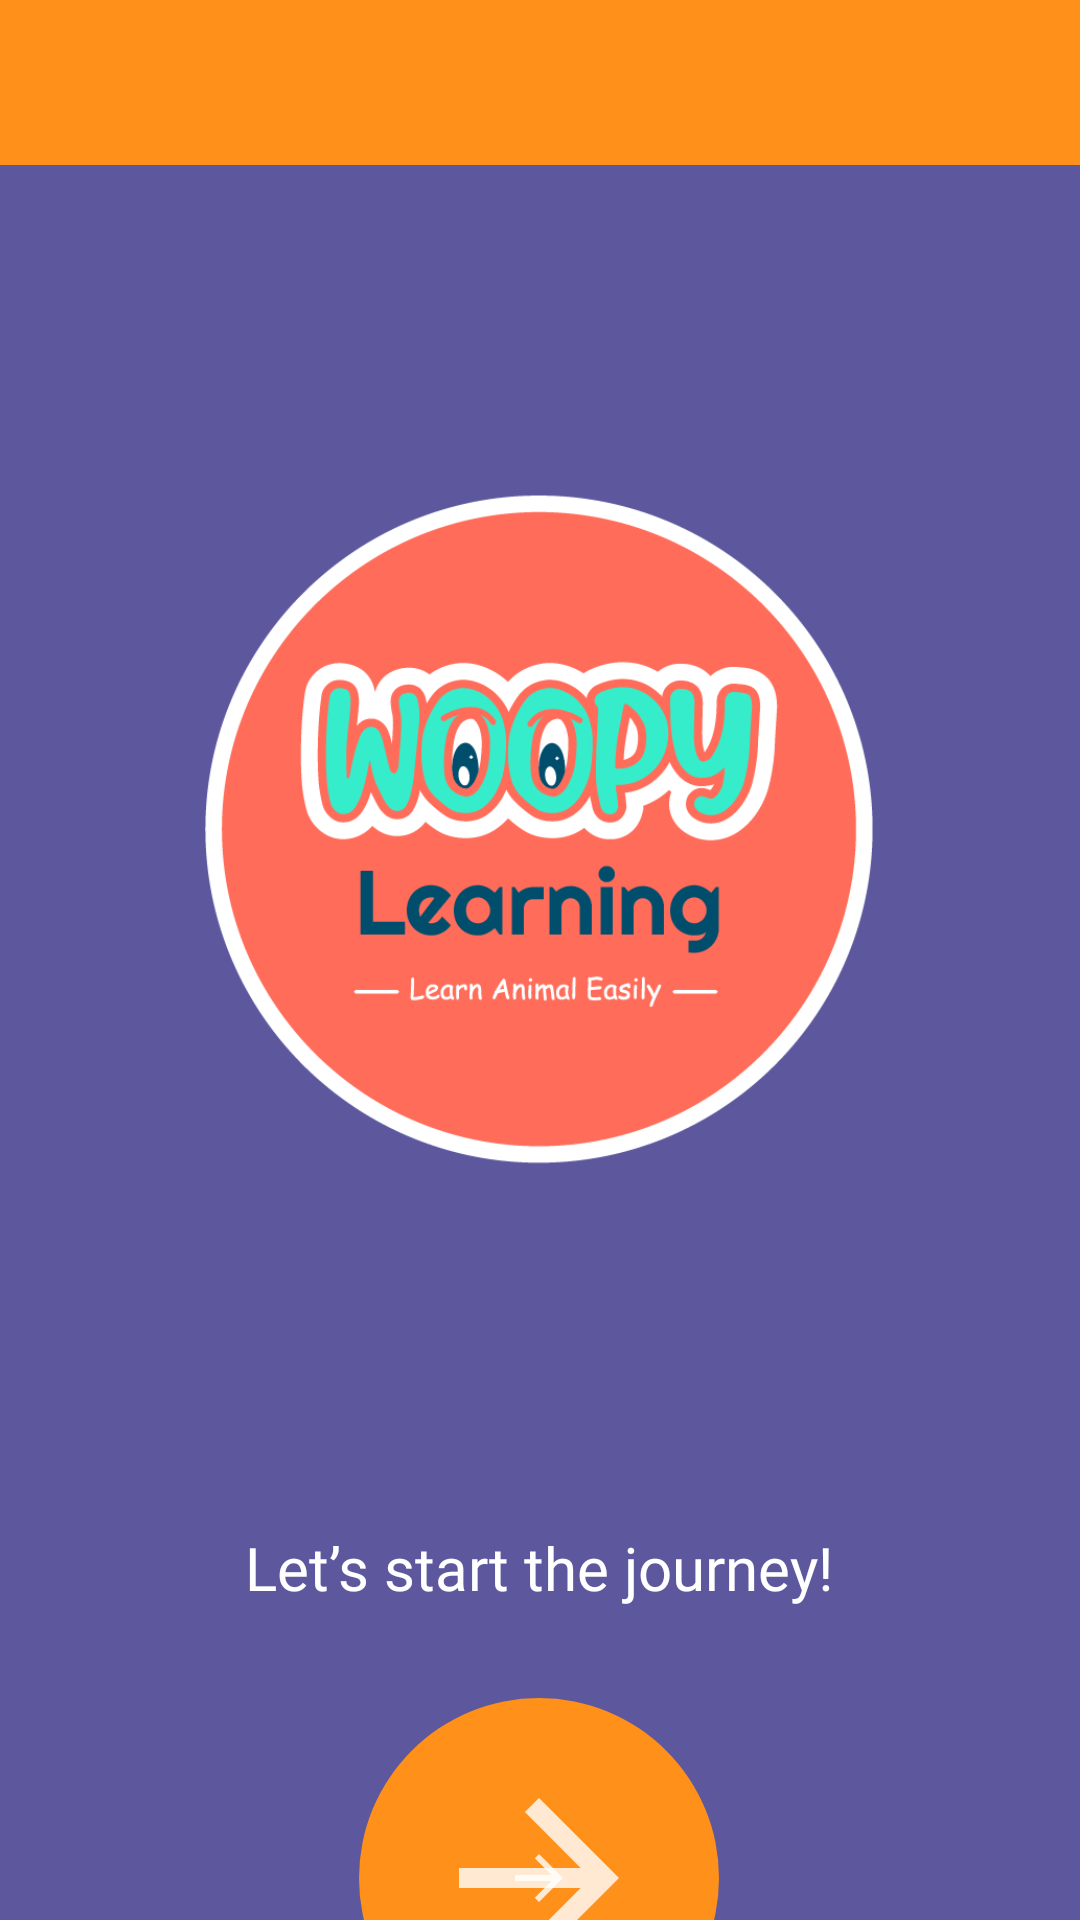

Icon click points for this 1080×1920 phone screenshot, format [x,y]:
This is the image for icon arrow next: [539,1878]
